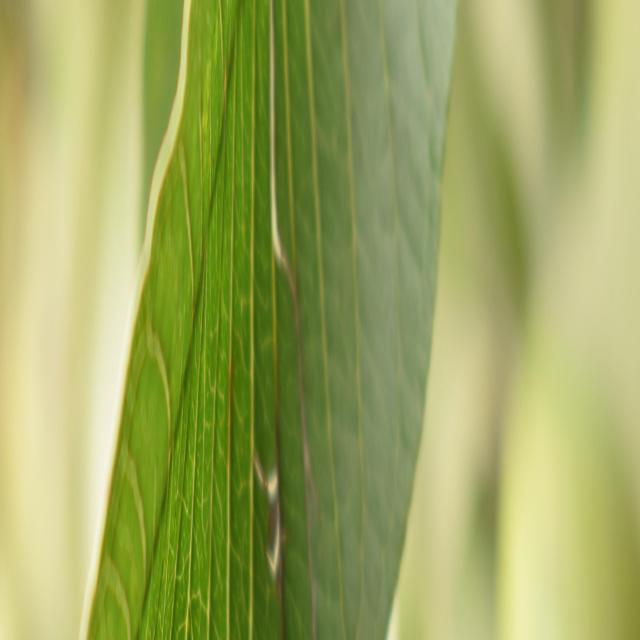Mummification: (88, 2, 455, 639)
